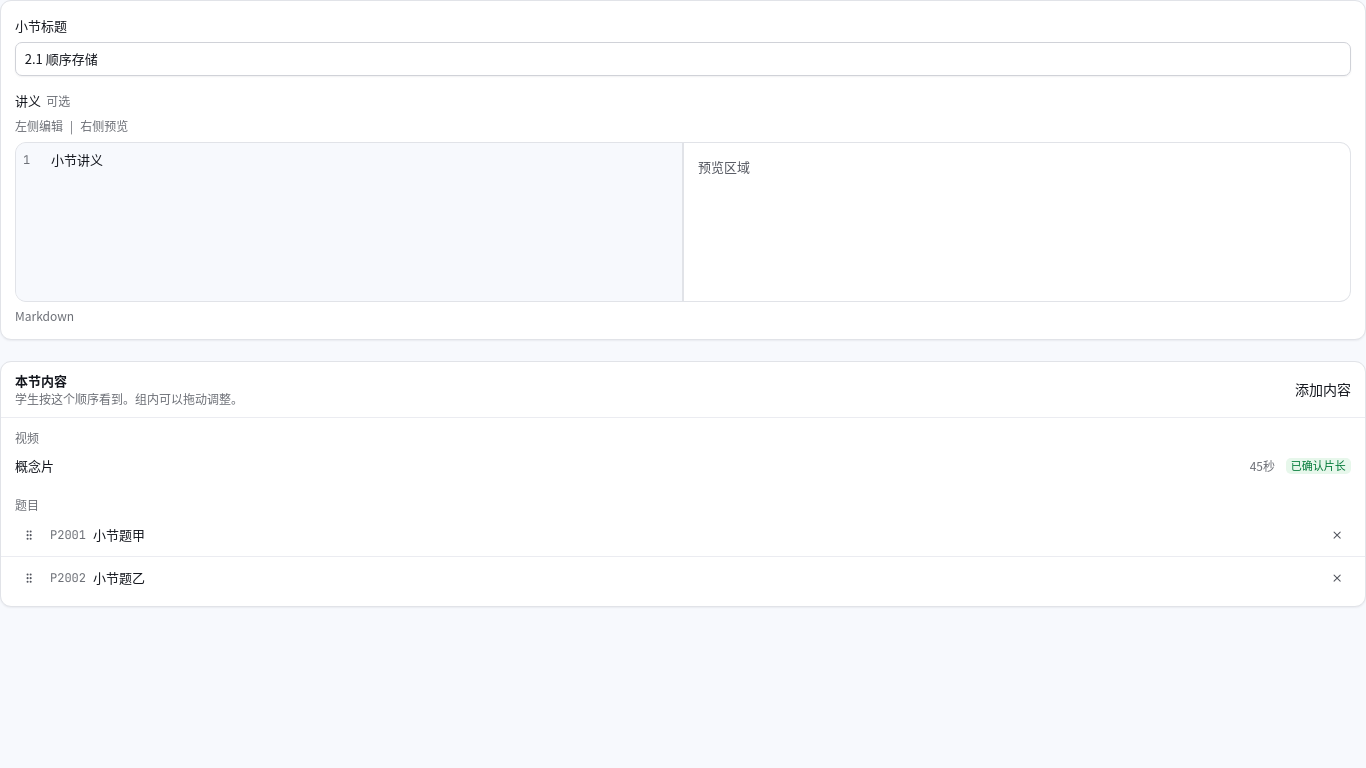
Test: chapter panel › opens the section video sheet for that section only
Click the text "概念片": [34, 466] box [15,456,54,475]
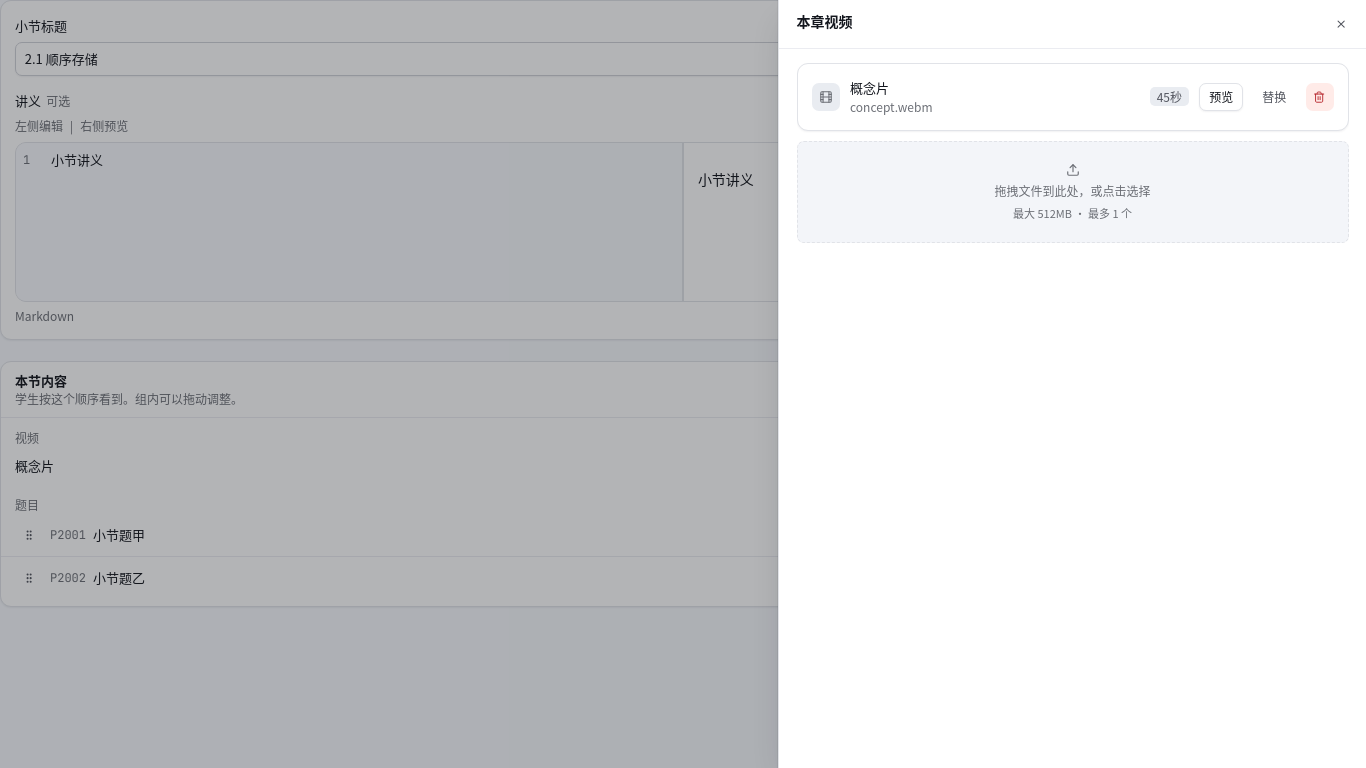
Result: the text "concept.webm" is shown at [850,98,932,114]
